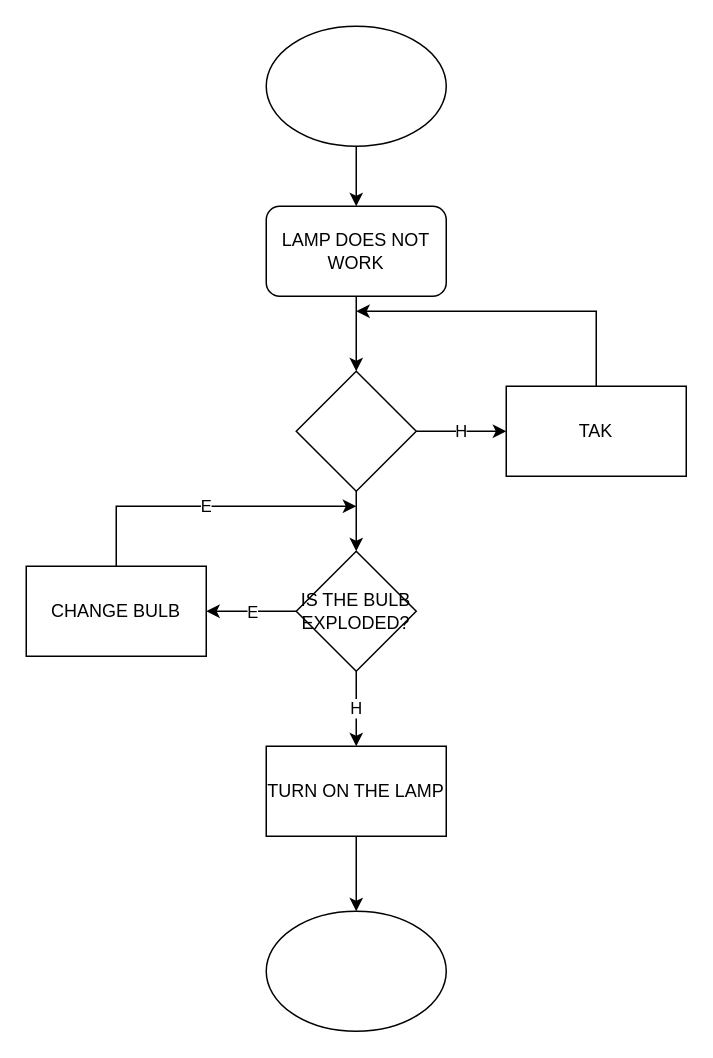
Some shapes in this 713 by 1058 pixel diagram are drawn without their labels. Each missing label, with the centre of its shape:
başla: the point at 355,85
DURMAK: the point at 355,970
Is the lamp plugged in?: the point at 355,430
